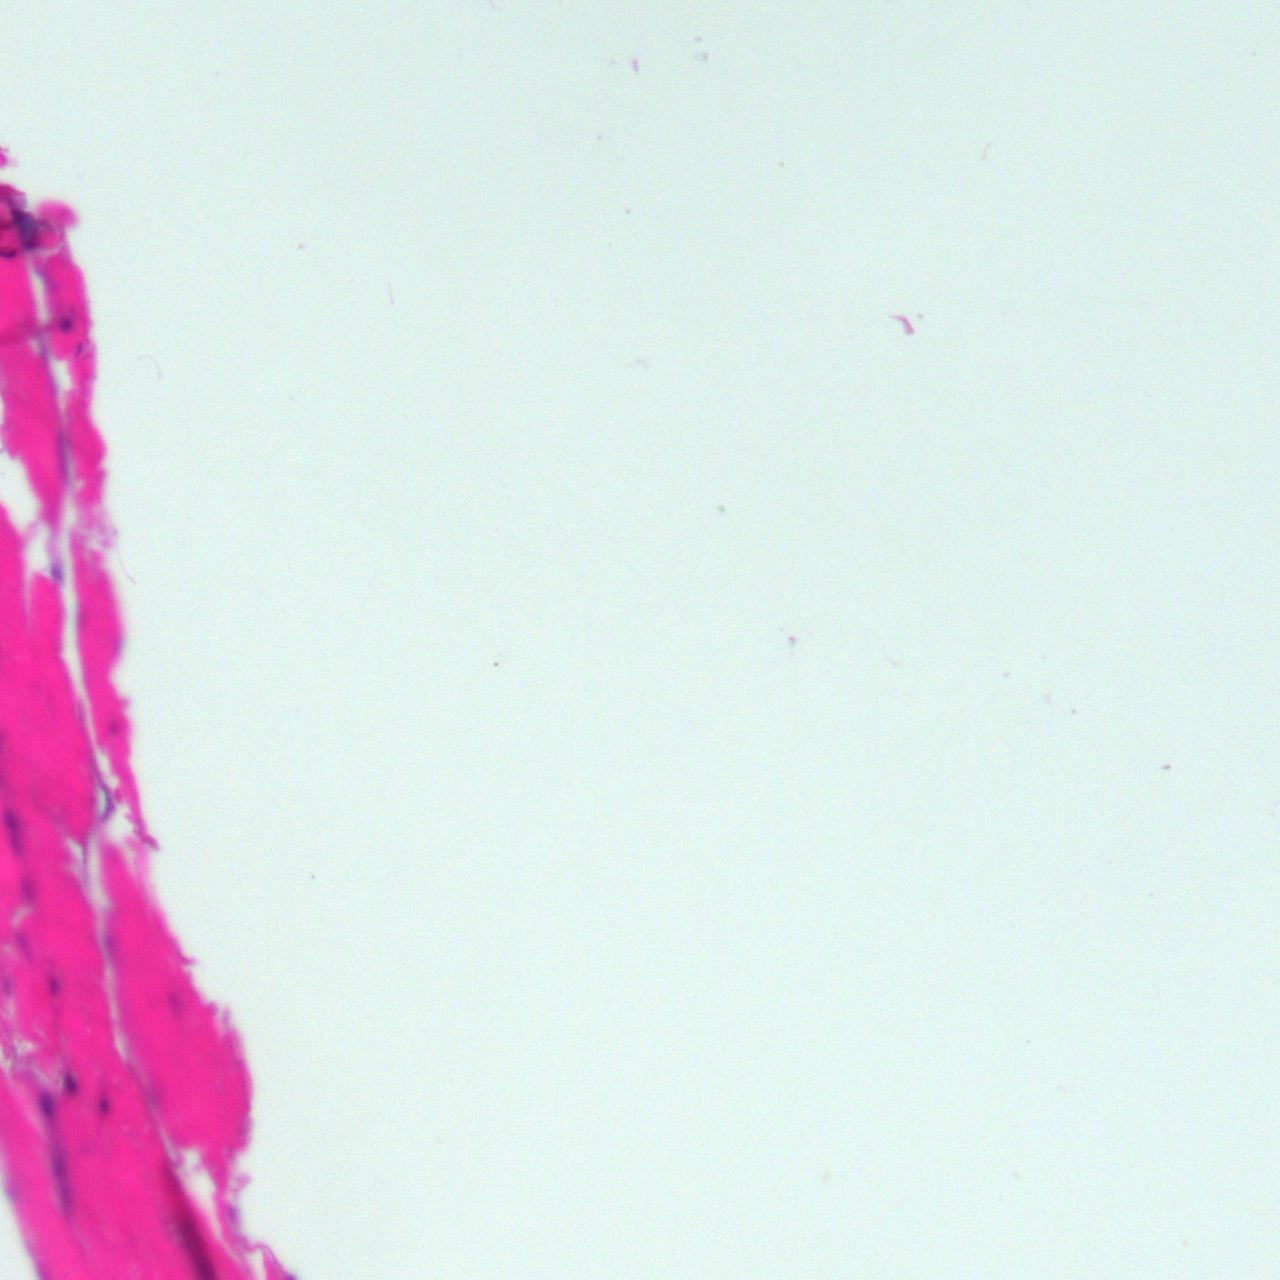nucleus-HE: (50, 1147, 74, 1215), (8, 928, 39, 970), (11, 208, 36, 249), (3, 808, 20, 855), (18, 871, 37, 906), (45, 964, 58, 999), (63, 1069, 77, 1097), (38, 1086, 52, 1114), (54, 313, 74, 332), (98, 1087, 107, 1116)
